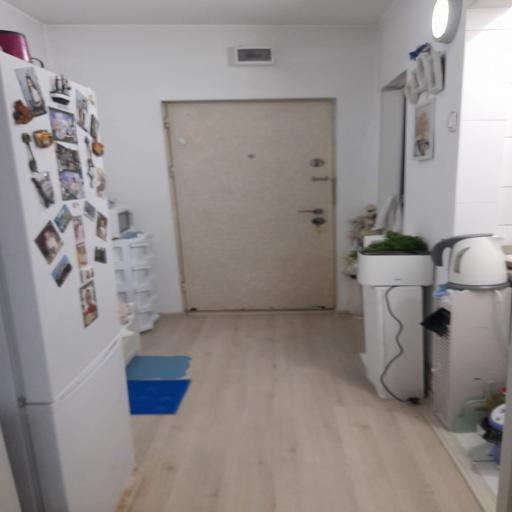corridor: (167, 100, 334, 310)
curb: (2, 27, 511, 512)
